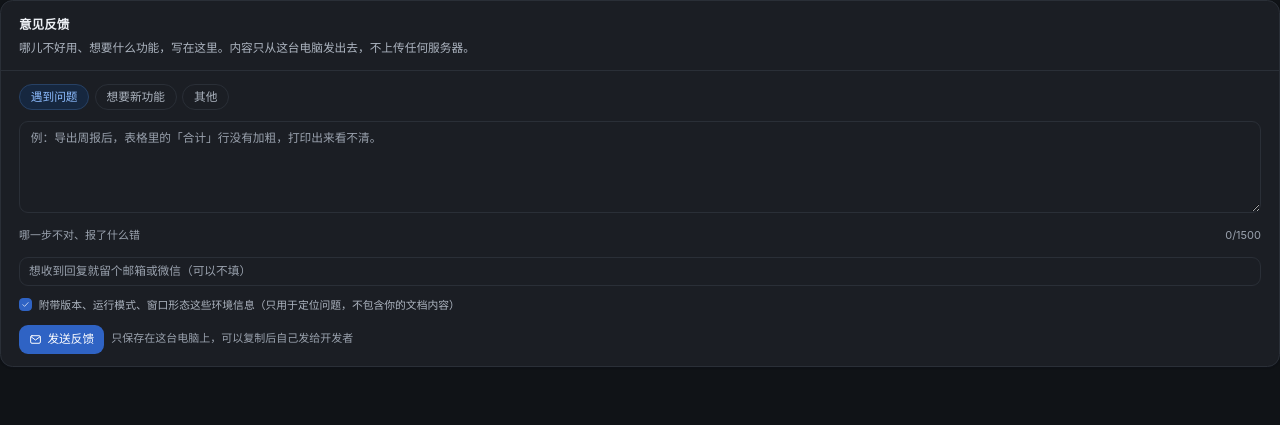
FeedbackCard › 后端报错时把原因显示出来，而不是静默失败
In the text box named "反馈内容": (640, 167) 19,121 -> 1261,213, type "测试"
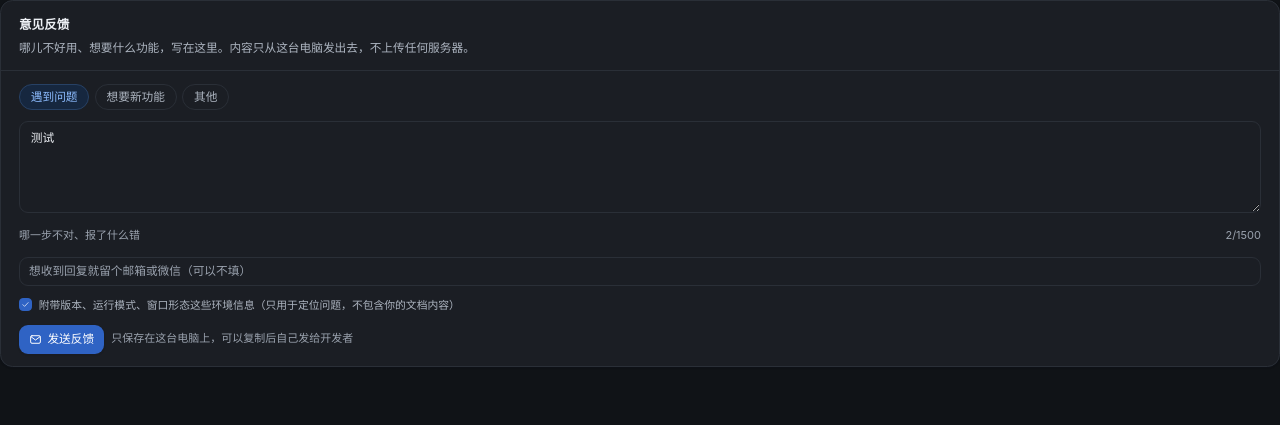
Click the button "发送反馈": (62, 339) 19,325 -> 104,354
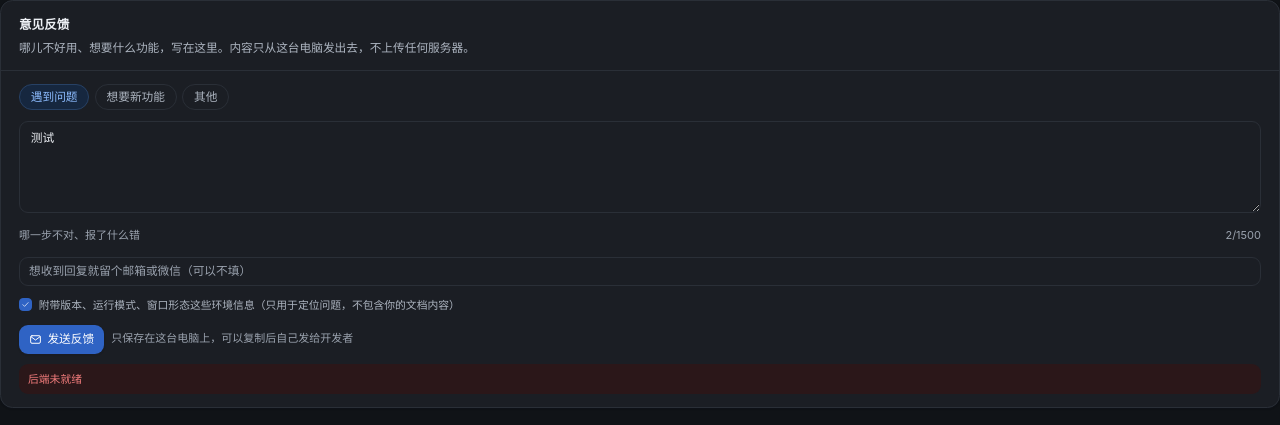
Now the text "后端未就绪" is shown, box 19,364 -> 1261,394
